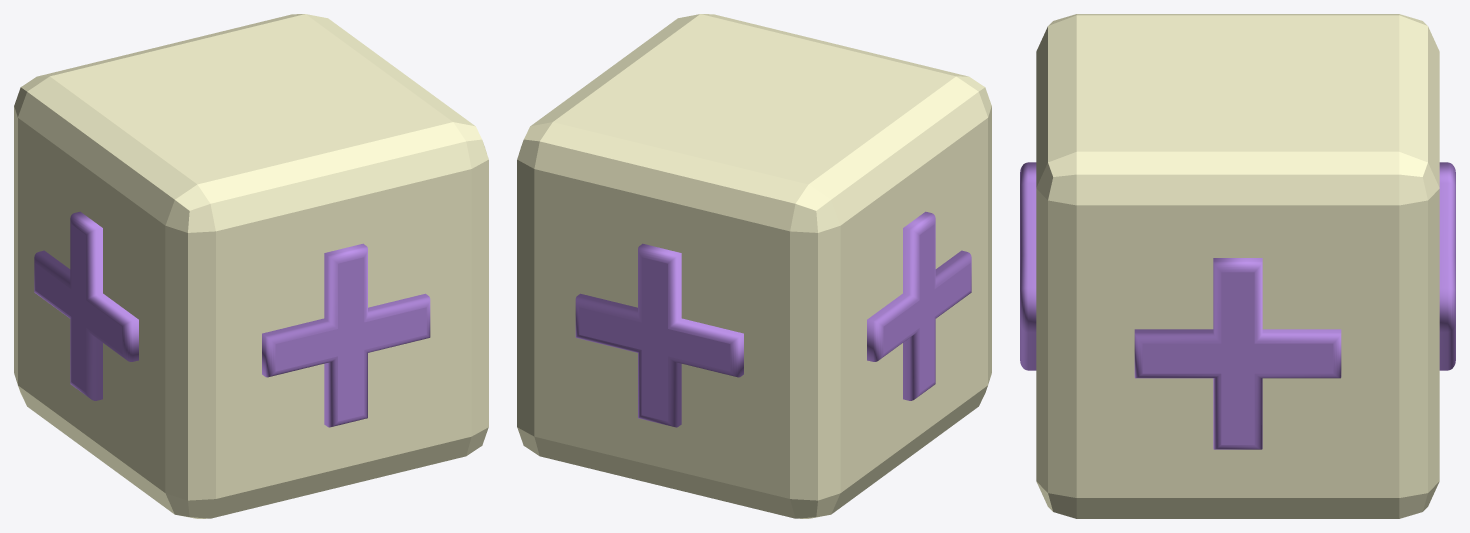
File: addition.fbx
The picture shows the model from 3 angles, left to right: view 1: azimuth 30°, elevation 25°; view 2: azimuth 150°, elevation 25°; view 3: azimuth 270°, elevation 25°; orthographic projection. The views are drawn at different scales.
Visible parts, largest first — view 1: +; view 2: +; view 3: +.
Boxes of the visible parts, left/top/right/bottom form: +: left=14, top=14, right=488, bottom=518; +: left=517, top=14, right=991, bottom=518; +: left=1020, top=14, right=1455, bottom=518.
Size of the model in its own units: 216 by 200 by 216.
